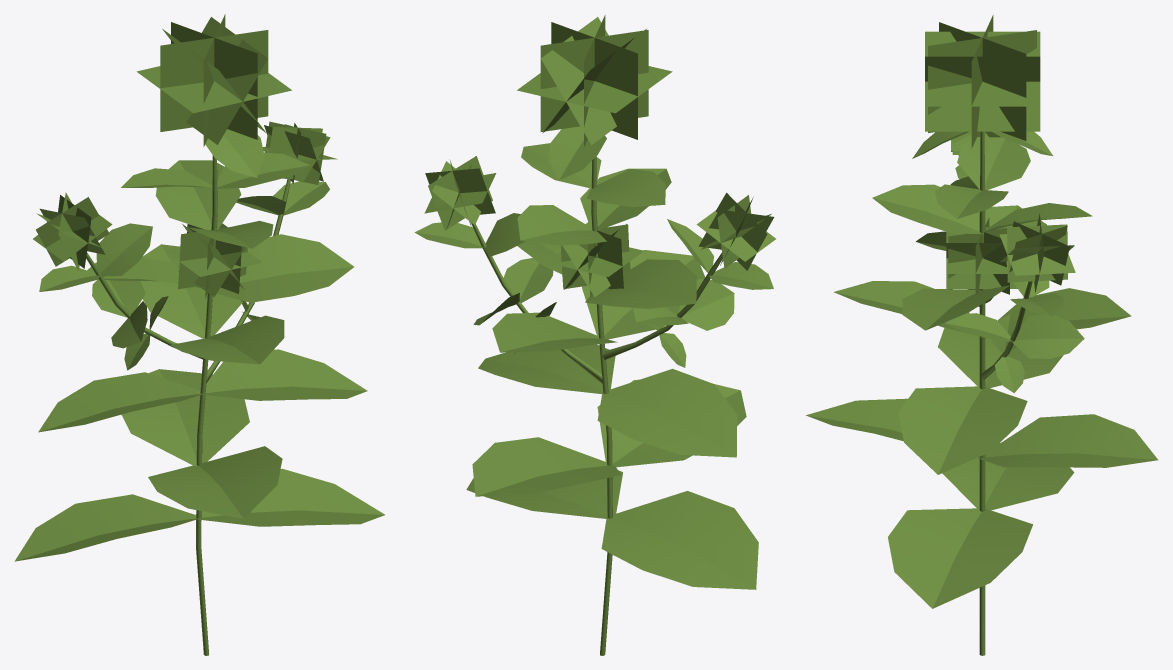
The model's file is Water_Mint_3.glb.
3 views of the same model, side by side, from view 1: azimuth 30°, elevation 25°; view 2: azimuth 150°, elevation 25°; view 3: azimuth 270°, elevation 25° (orthographic).
Parts seen in each view (by area): view 1: Water_Mint_3; view 2: Water_Mint_3; view 3: Water_Mint_3.
Boxes of the visible parts, box(x1,y1,x2,y2) form: Water_Mint_3: box(14, 14, 384, 655); Water_Mint_3: box(414, 15, 775, 655); Water_Mint_3: box(806, 15, 1158, 655).
Bounding box in the file's own units: 0.092 × 0.1653 × 0.0852.
